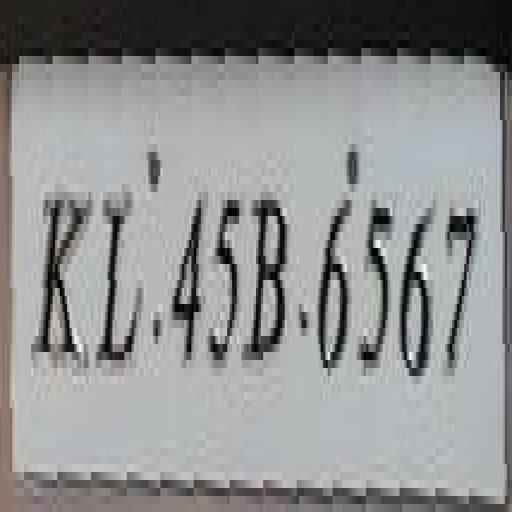number plate: (5, 49, 512, 497)
